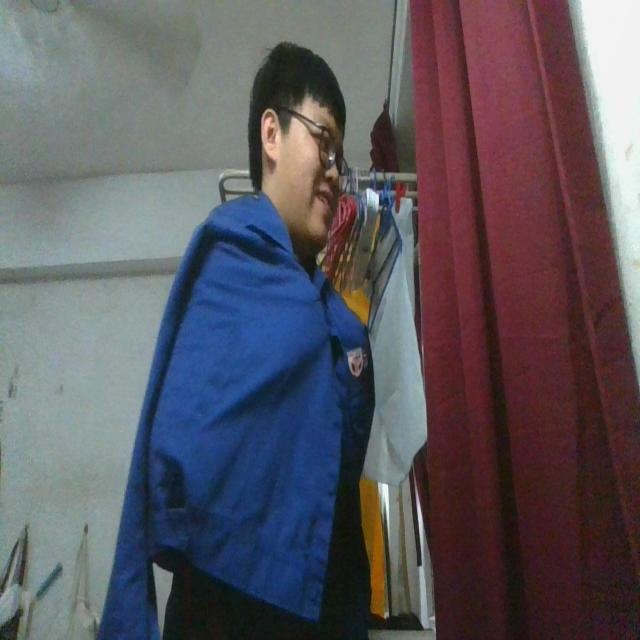person_without_labcoat: (99, 43, 373, 639)
